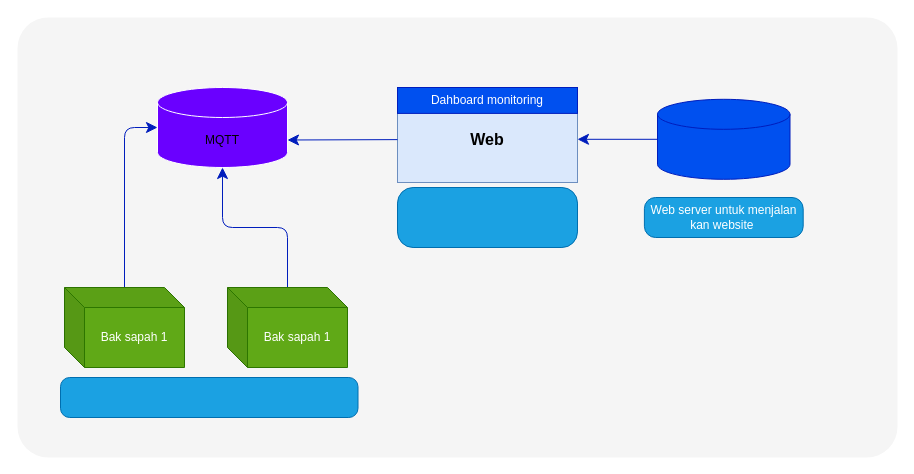
This 914x474 diagram has some shape labels left out. Each missing label, with the centre of its shape:
Setiap tong sampah connect ke MQTT Broker: pixel 209 397
Untuk website bisa di akses di dashboard dan mobile: pixel 487 217
Web server: pixel 723 138
